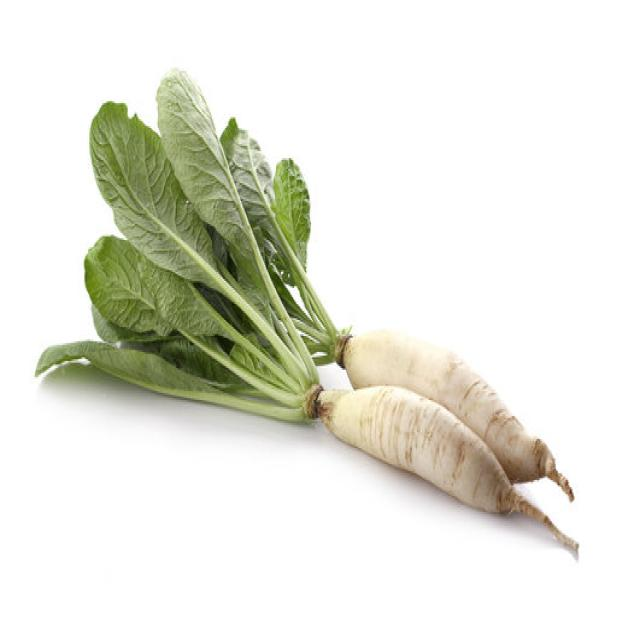Carrot: (311, 380, 578, 560), (334, 325, 575, 503)
Radish: (34, 66, 578, 560), (227, 148, 575, 503), (35, 331, 578, 558)
